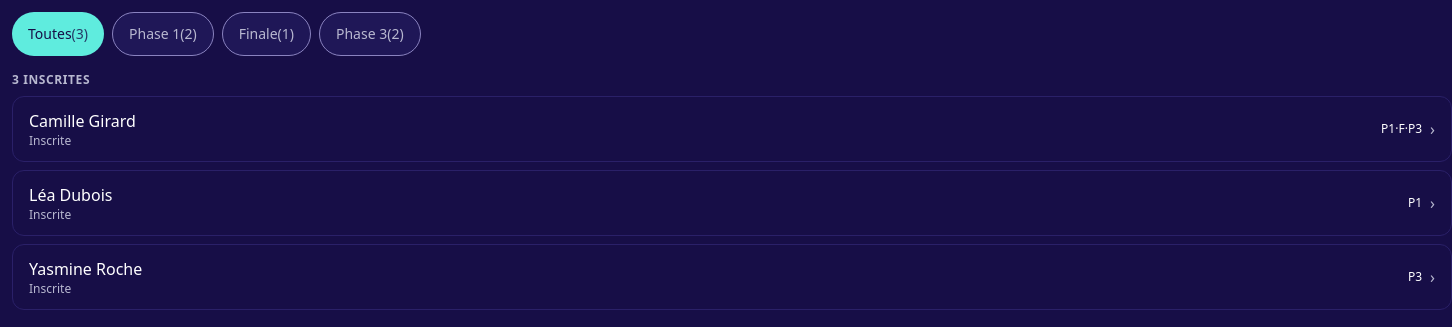
Test case: ParticipantesNav — filtres par phase › filtrer sur une phase ne garde que ses participantes
Click the button "Phase 3 (2)" at (370, 34), box x1=319 y1=12 x2=421 y2=56
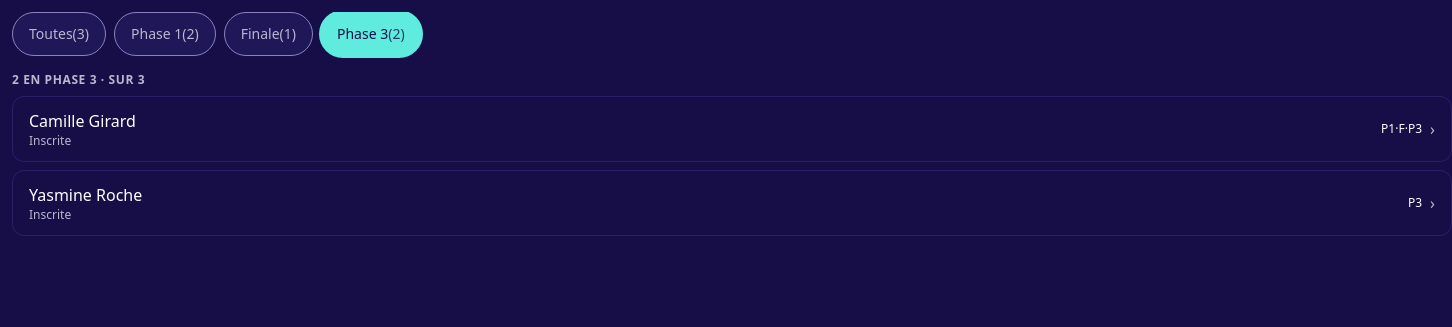
Expected: the number of list items is 2, x1=12 y1=96 x2=1451 y2=162; x1=12 y1=170 x2=1451 y2=236
Expected: the link "Léa Dubois" is gone
